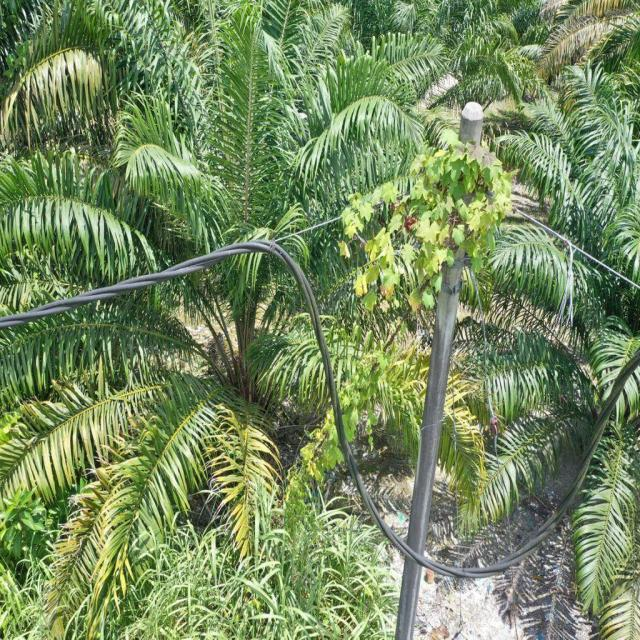critical vegetation: (338, 122, 519, 324), (266, 338, 392, 534)
